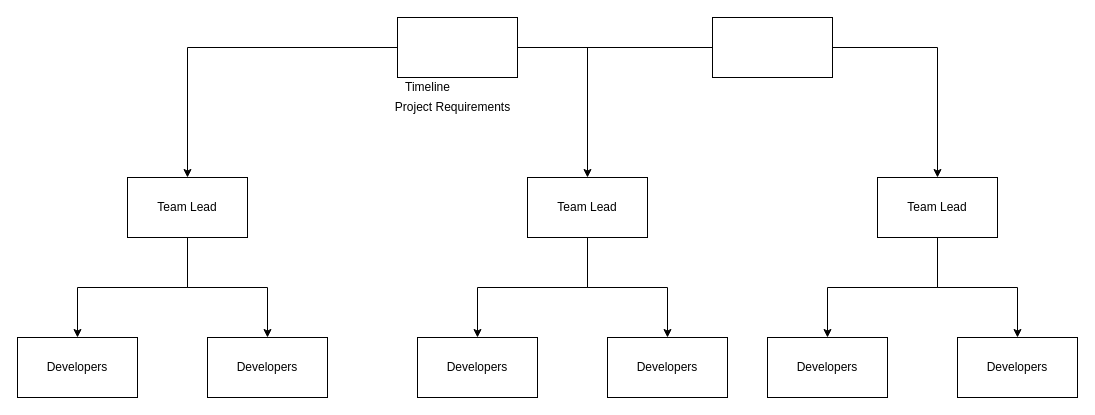
Some shapes in this 1095 by 415 pixel diagram are drawn without their labels. Each missing label, with the centre of its shape:
Manager: the point at 457,47
Software Architect: the point at 772,47
